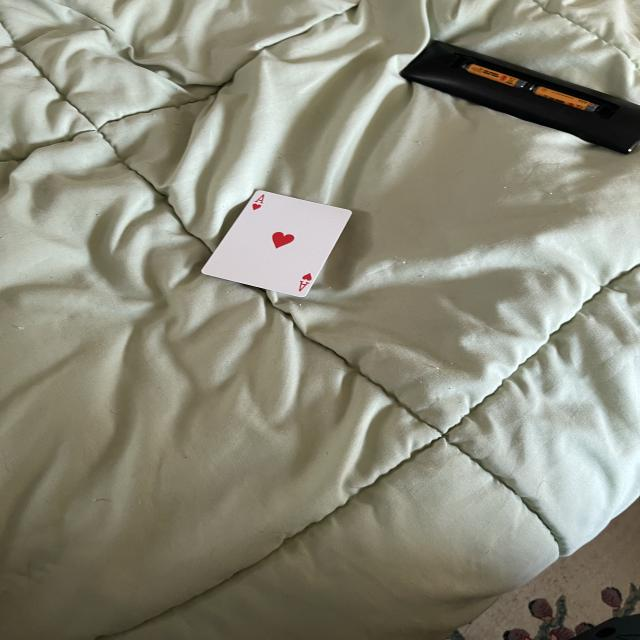Ace of hearts: (198, 190, 353, 300)
